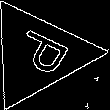P_SE: (2, 26, 74, 82)
